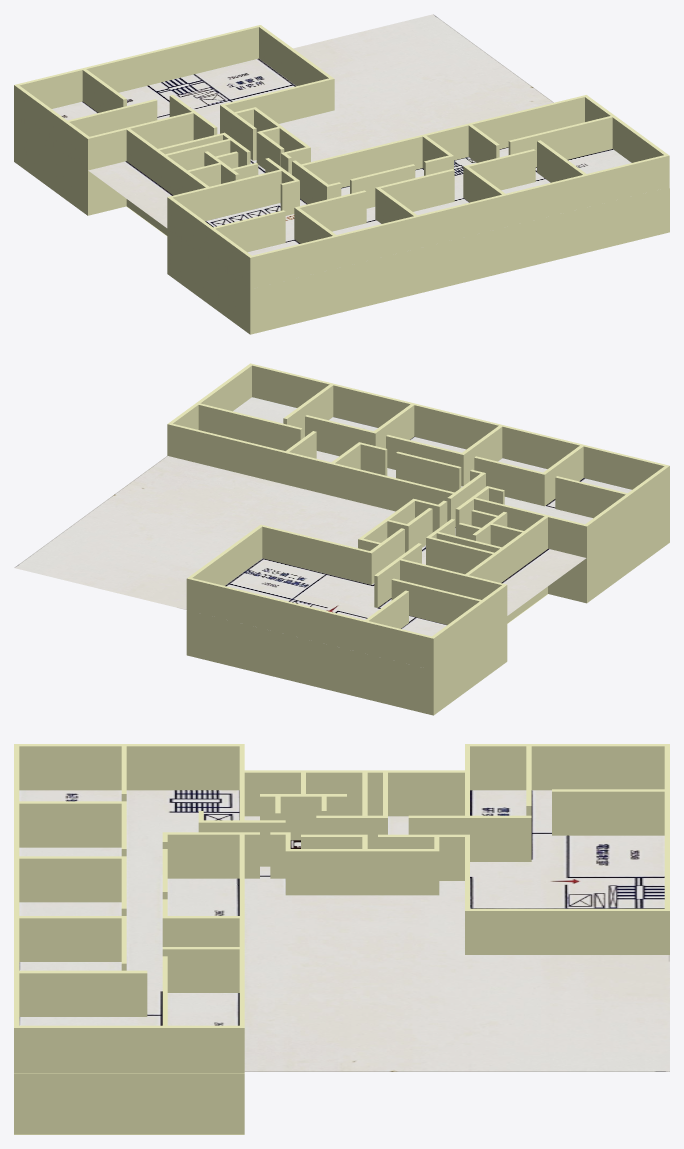
File: College-of-Commerce-5F-cube.glb
The picture shows the model from 3 angles, top to bottom: view 1: azimuth 30°, elevation 25°; view 2: azimuth 150°, elevation 25°; view 3: azimuth 270°, elevation 25°; orthographic projection. The views are drawn at different scales.
Visible parts, largest first — view 1: Cube, Plane; view 2: Cube, Plane; view 3: Cube, Plane.
Boxes of the visible parts, box(x1,y1,x2,y2) form: Cube: box(14, 25, 669, 334); Plane: box(52, 14, 631, 255); Cube: box(167, 363, 669, 715); Plane: box(14, 397, 631, 636); Cube: box(14, 744, 669, 1134); Plane: box(19, 790, 669, 1071).
Size of the model in its own units: 40.01 by 7 by 39.02.
Materials: 2 (1 with a texture image).
